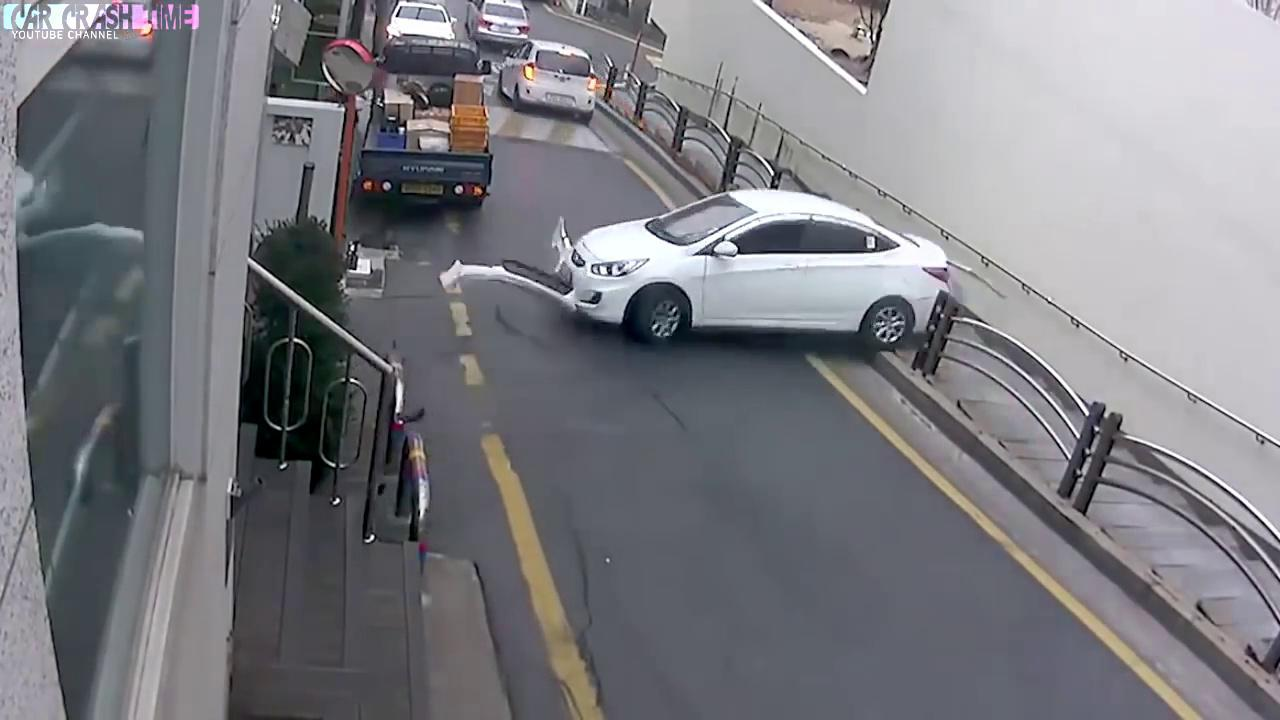car-accident: (501, 172, 997, 369)
